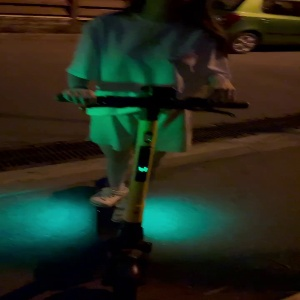human on a scooter: (54, 1, 252, 300)
